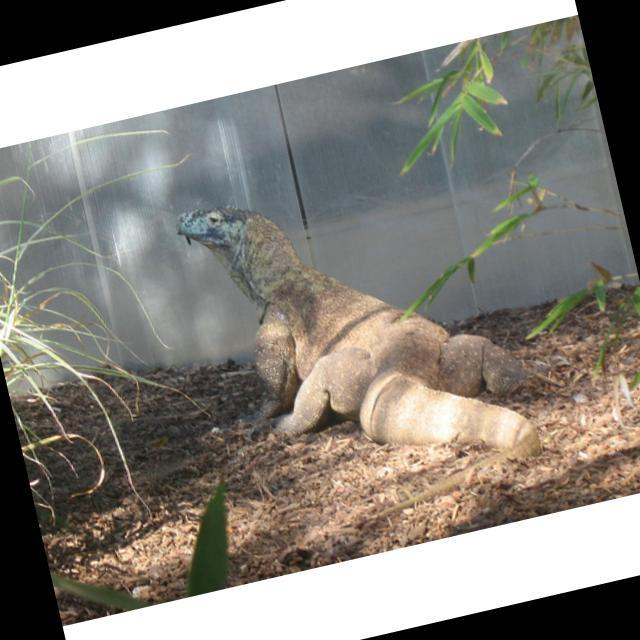KomodoDragon: (168, 137, 575, 556)
